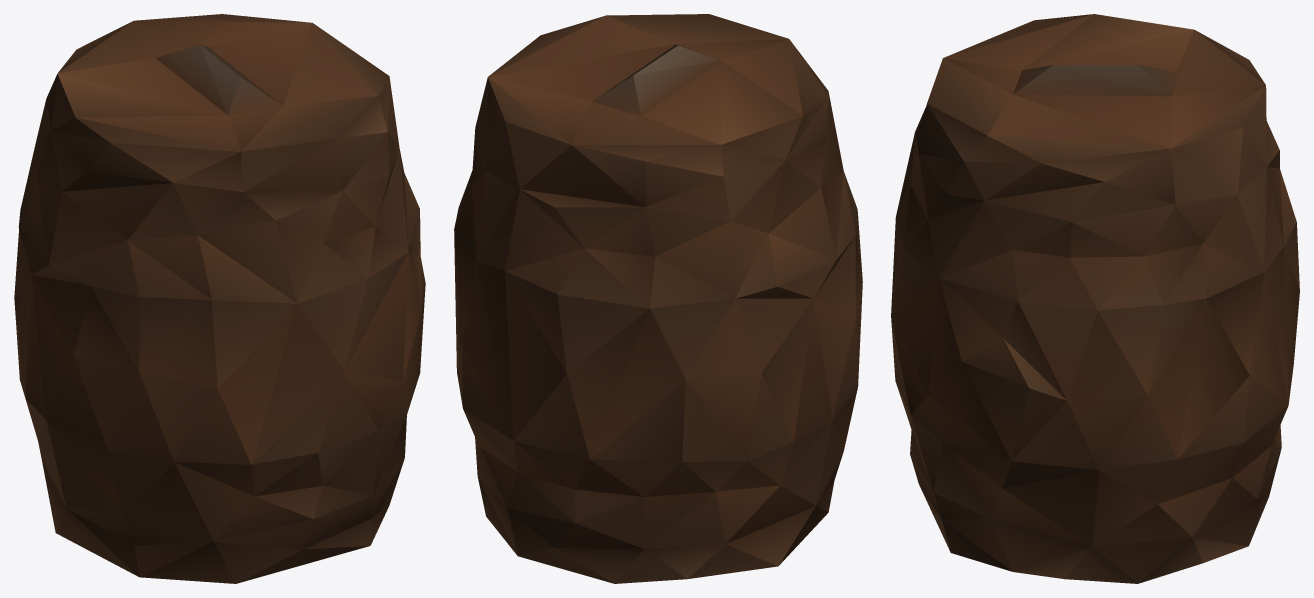
The model's file is barrel.glb.
3 renders of one model, left to right at view 1: azimuth 30°, elevation 25°; view 2: azimuth 150°, elevation 25°; view 3: azimuth 270°, elevation 25°, orthographic.
Parts seen in each view (by area): view 1: barrel; view 2: barrel; view 3: barrel.
Part boxes in pixels (x1,y1,x2,y2): barrel: [14, 14, 425, 583]; barrel: [454, 14, 862, 583]; barrel: [891, 14, 1299, 583].
Bounding box in the file's own units: 2.41 × 2.99 × 2.44.
